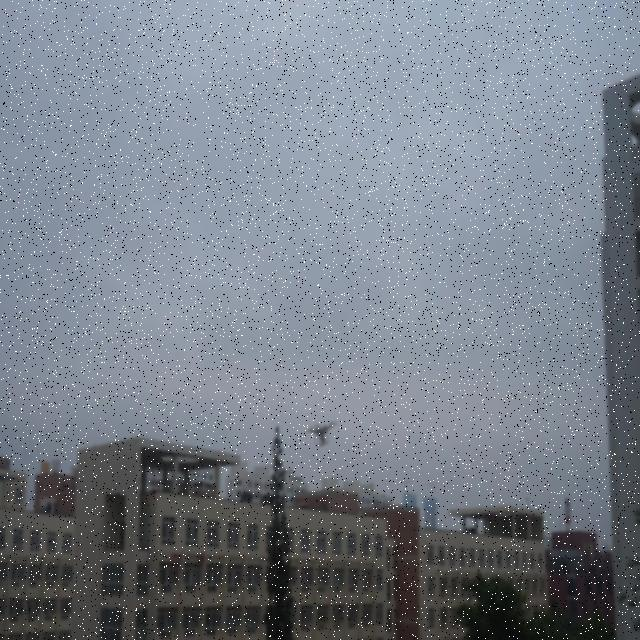UAV: (304, 421, 339, 447)
